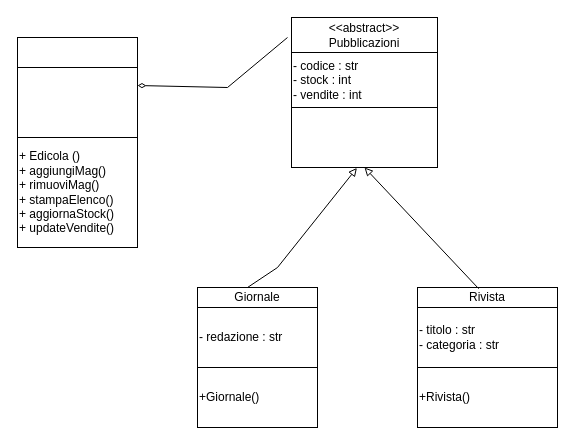
The diagram is 575 pixels wide and 445 high, and some of its shapes have lost their labels. Each missing label, with the centre of its shape:
"+ Pubblicazioni() + stampaDettagli()" goes at point 364,137.
"- nome : str - indirizzo : str List pubblicazioni" goes at point 77,102.
"<<Contenitore>> Edicola" goes at point 77,52.
